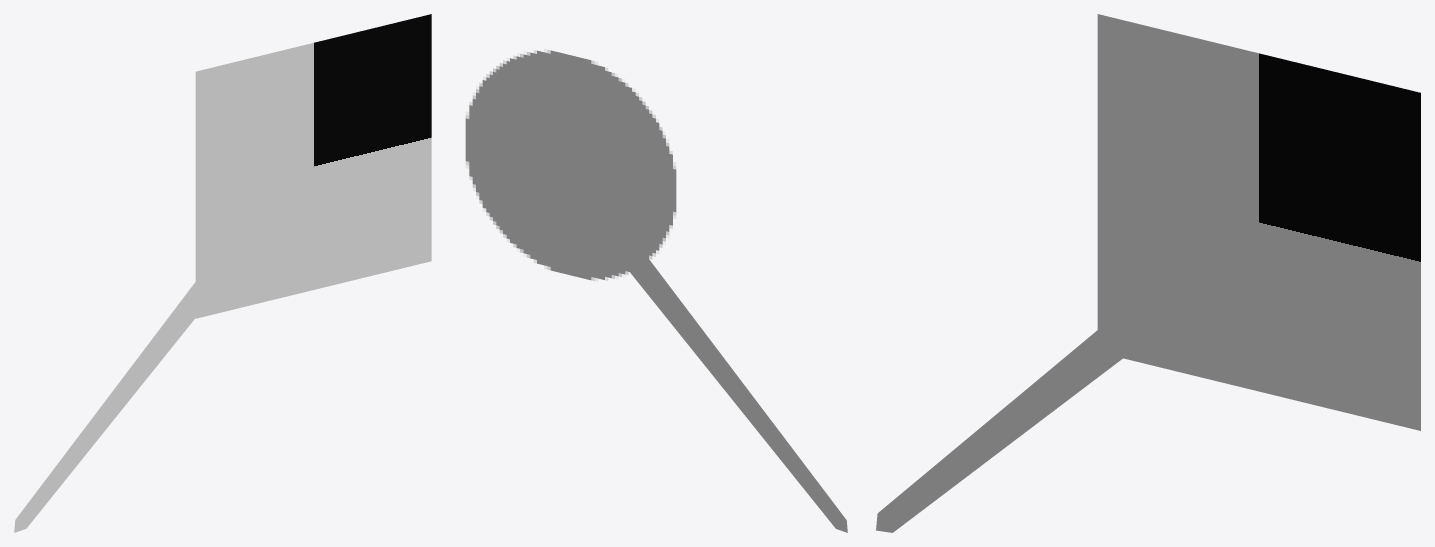
The model's file is glf_fukidasi__glf_fukidasi.glb.
The picture shows the model from 3 angles, left to right: view 1: azimuth 30°, elevation 25°; view 2: azimuth 150°, elevation 25°; view 3: azimuth 330°, elevation 25°; orthographic projection. The views are drawn at different scales.
Parts seen in each view (by area): view 1: polygon3, polygon2; view 2: polygon2, polygon0; view 3: polygon3, polygon2.
Boxes of the visible parts, x1,y1,x2,y2 form: polygon3: (195,14,431,318); polygon2: (14,282,195,532); polygon2: (465,50,847,532); polygon0: (466,49,675,281); polygon3: (1097,14,1420,430); polygon2: (876,330,1122,532).
Bounding box in the file's own units: 2.44 × 2.44 × 0.1.
4 materials, 4 textured.
